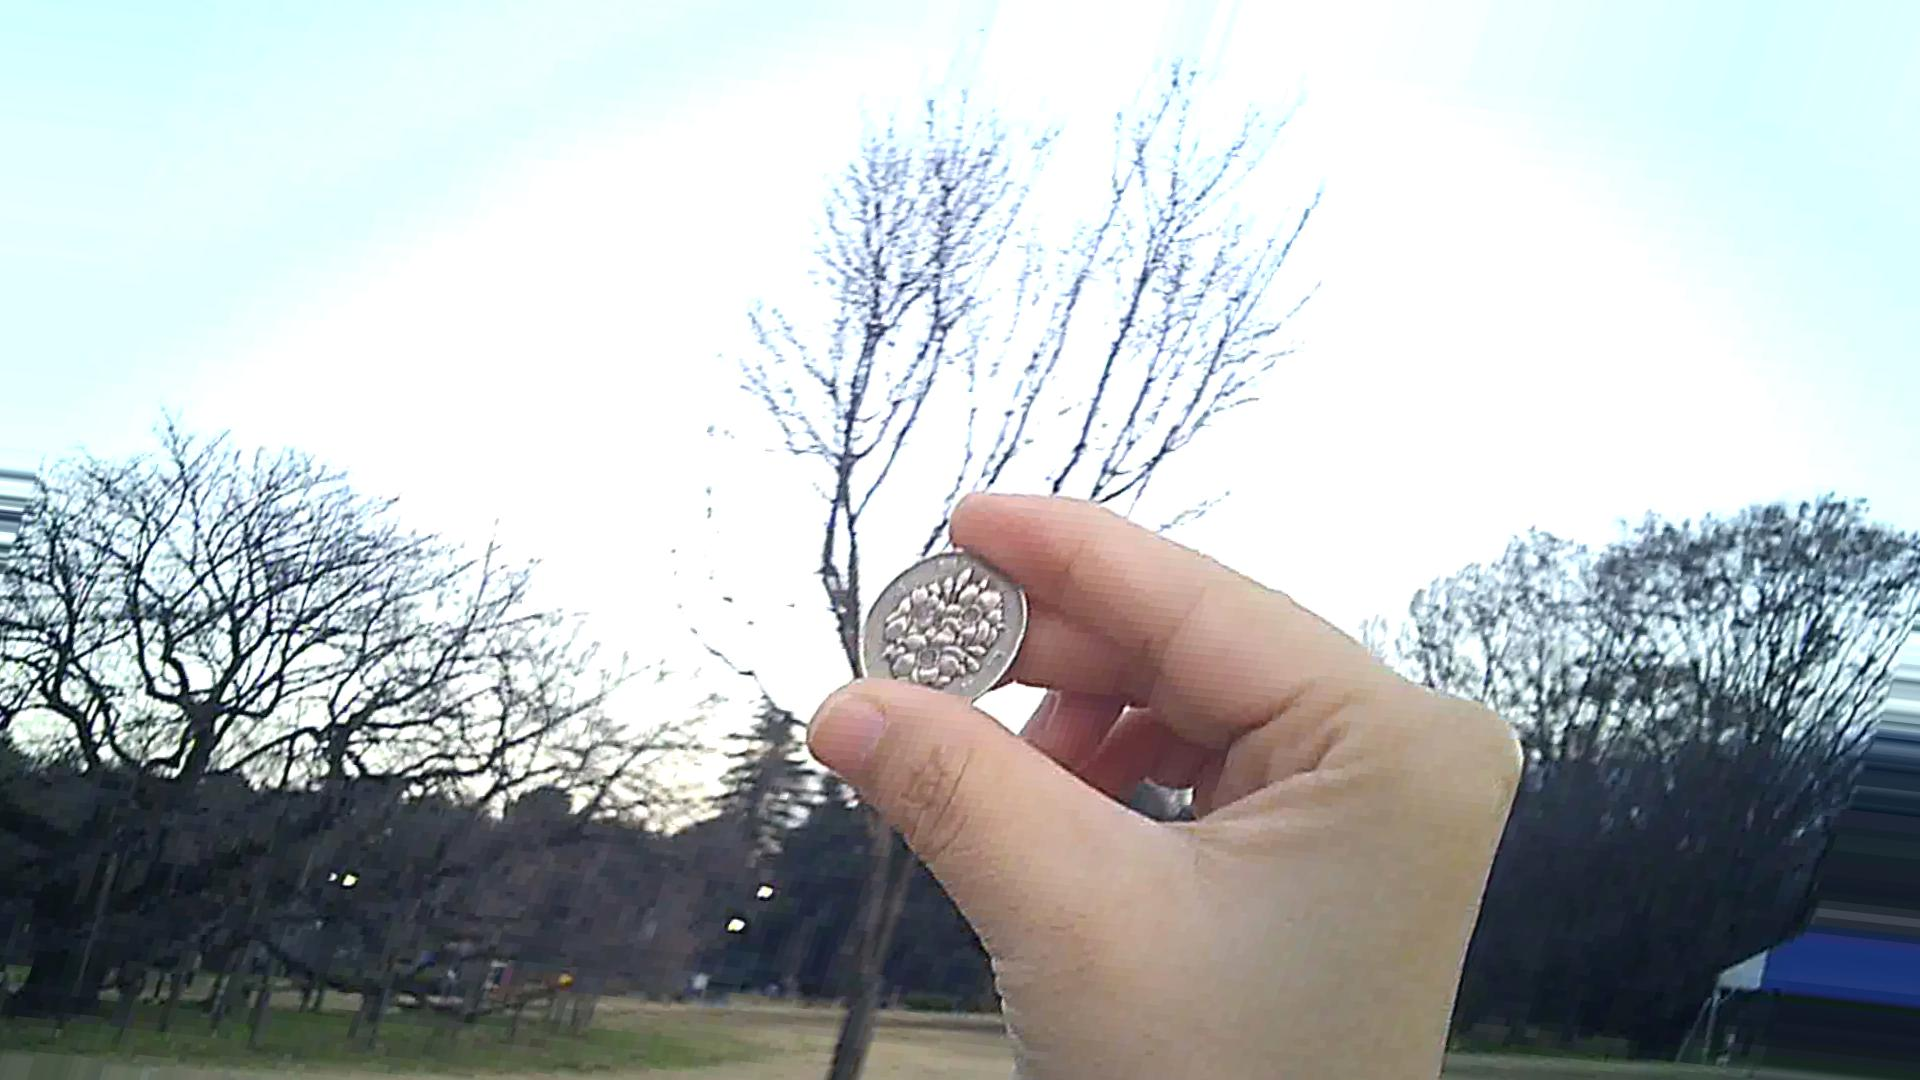100 Yen: (858, 547, 1015, 713)
